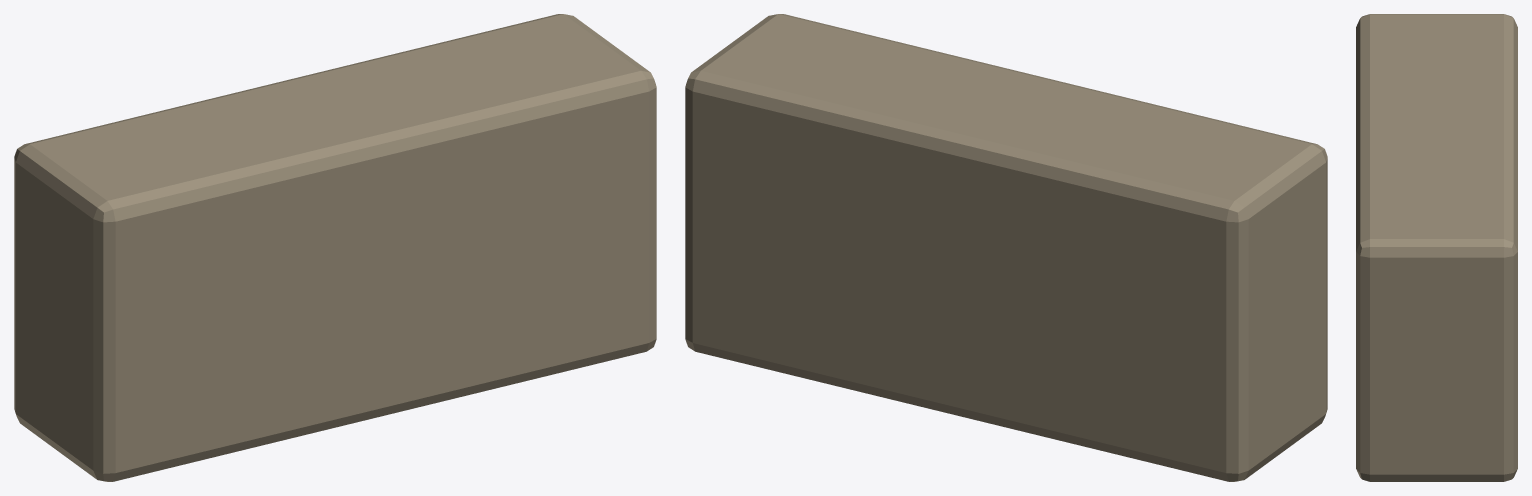
The model's file is rubble_cover_high_LOD2.glb.
The picture shows the model from 3 angles, left to right: view 1: azimuth 30°, elevation 25°; view 2: azimuth 150°, elevation 25°; view 3: azimuth 270°, elevation 25°; orthographic projection. The views are drawn at different scales.
Visible parts, largest first — view 1: LOD2_High; view 2: LOD2_High; view 3: LOD2_High.
Boxes of the visible parts, x1=… form: LOD2_High: x1=14, y1=14, x2=656, y2=481; LOD2_High: x1=685, y1=14, x2=1327, y2=481; LOD2_High: x1=1356, y1=14, x2=1517, y2=481.
Bounding box in the file's own units: 3.18 × 1.52 × 0.92.
